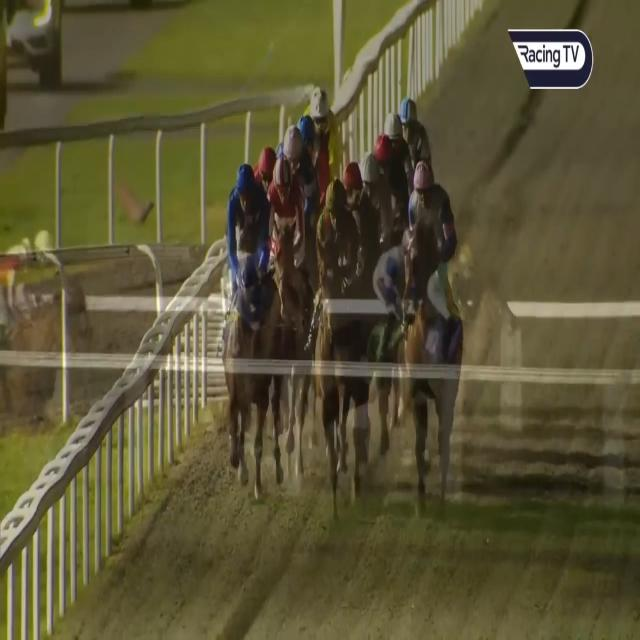horses-racing: (322, 176, 356, 386), (269, 156, 298, 387), (221, 166, 267, 270), (411, 158, 452, 270), (305, 90, 346, 179), (280, 120, 318, 211), (372, 133, 412, 211), (358, 155, 394, 237), (295, 113, 329, 181), (344, 163, 371, 228), (251, 141, 285, 187), (396, 92, 421, 144)
